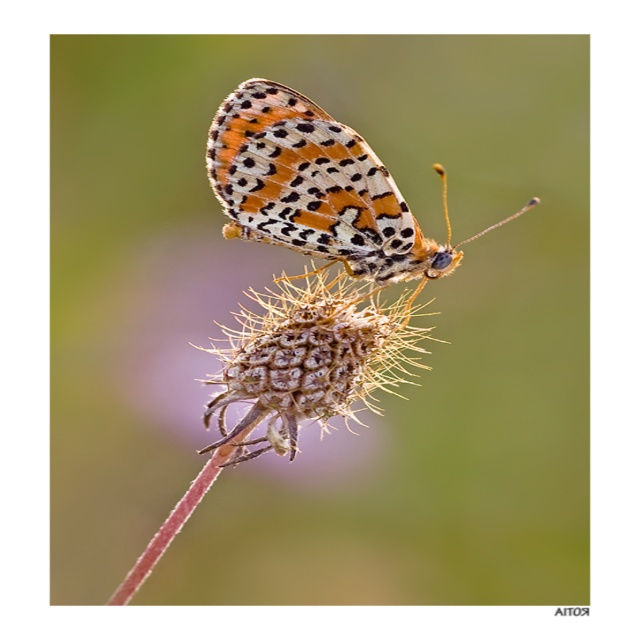Butterfly: (192, 78, 549, 291)
